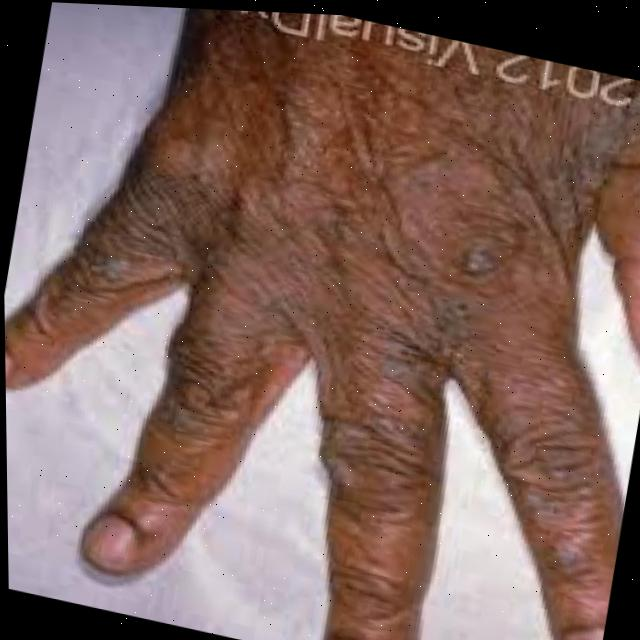Eczema: (55, 41, 616, 519)
